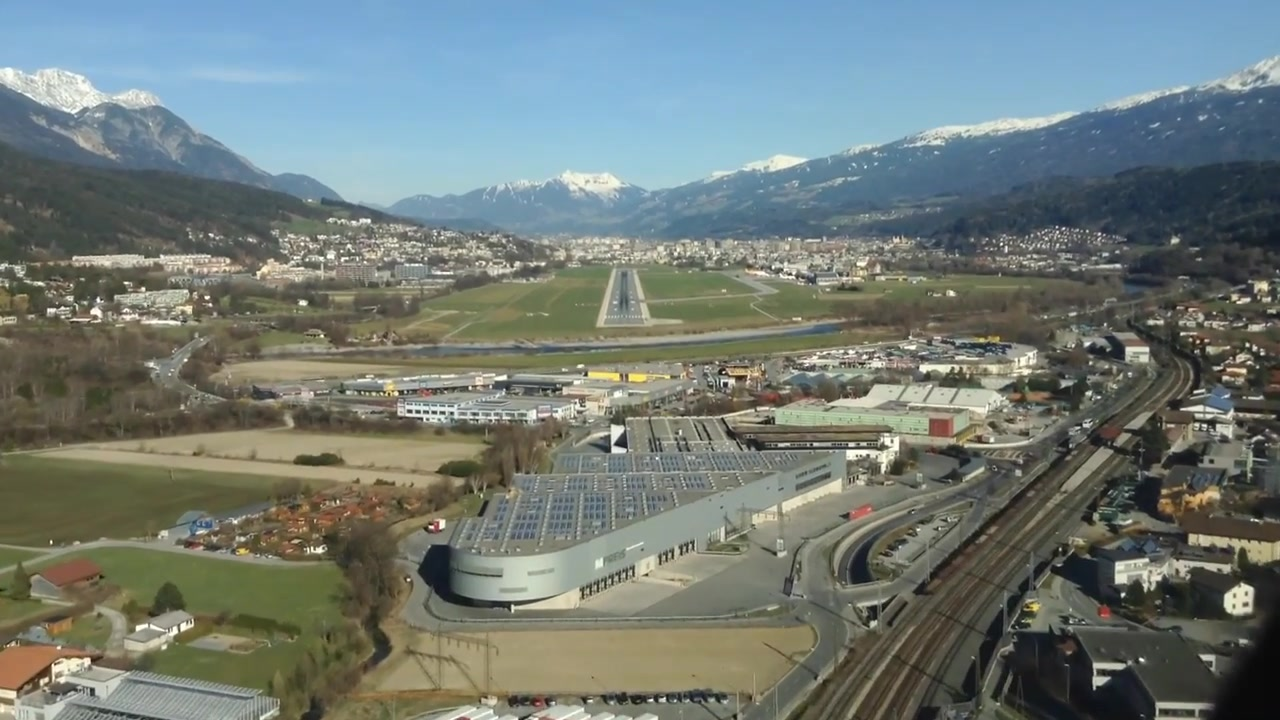entrance: (601, 313, 645, 319)
runway: (600, 265, 648, 325)
